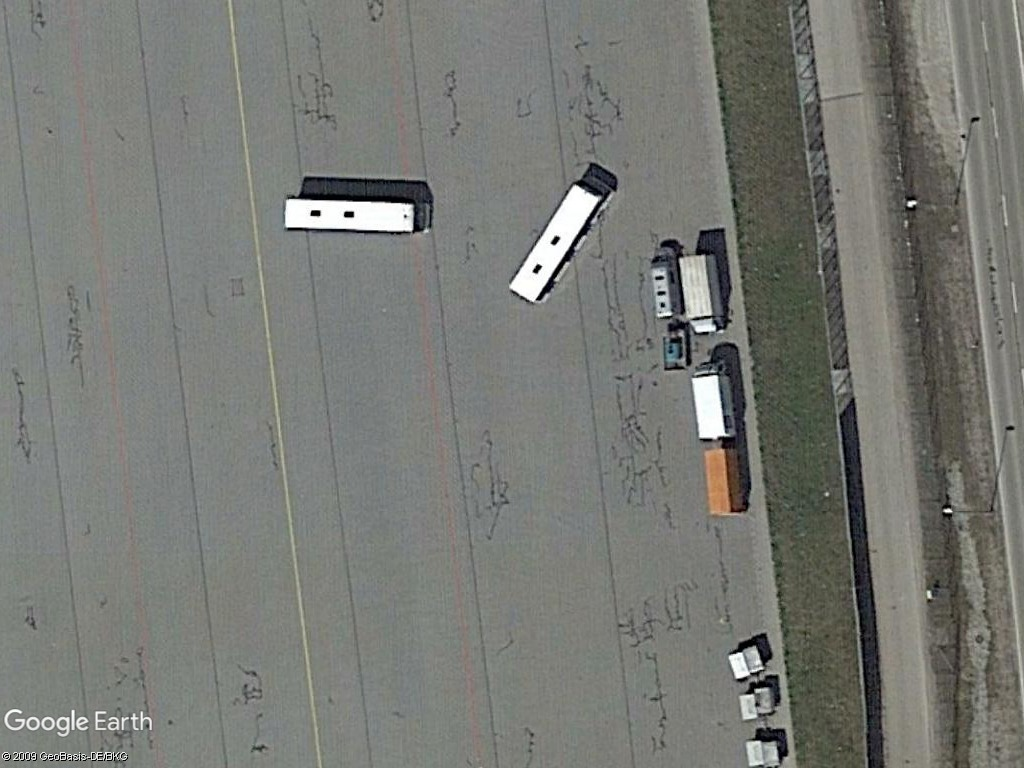bus: (504, 176, 615, 310), (279, 192, 437, 240)
longvehicle: (699, 442, 745, 520)
truck: (675, 249, 732, 340), (691, 356, 739, 444)
van: (650, 240, 687, 323)
